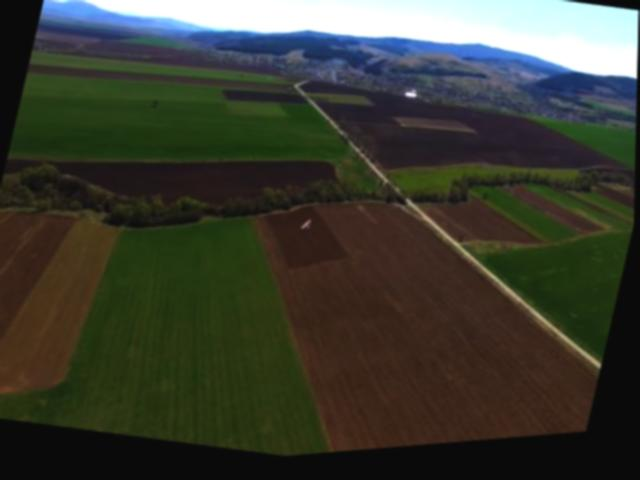uav: (295, 216, 319, 242)
